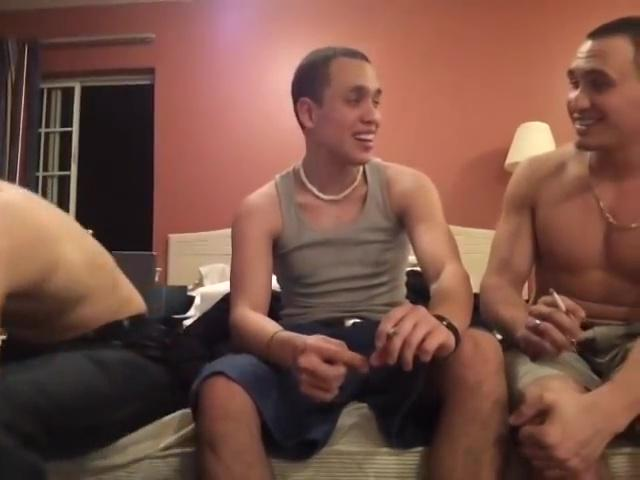cigarette: (550, 286, 570, 315)
